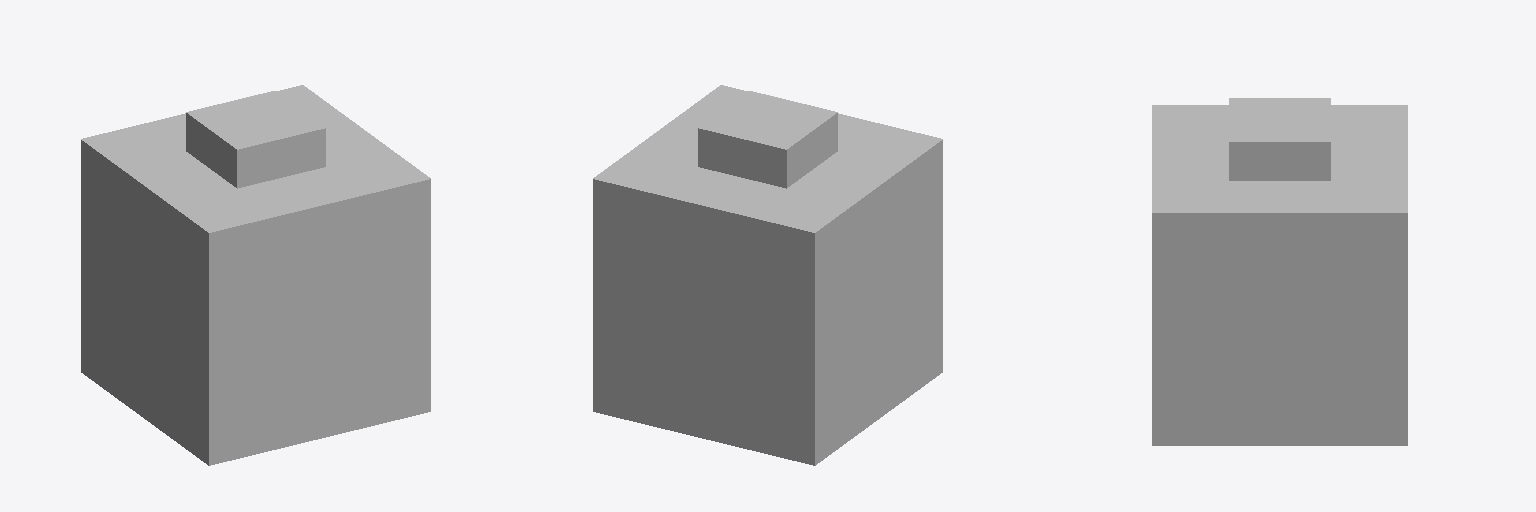
Rendered from Switch_Off.obj.
3 views of the same model, side by side, from view 1: azimuth 30°, elevation 25°; view 2: azimuth 150°, elevation 25°; view 3: azimuth 270°, elevation 25° (orthographic).
Parts seen in each view (by area): view 1: 立方体; view 2: 立方体; view 3: 立方体.
Boxes of the visible parts, <box> form: 立方体: <box>81,85,430,465</box>; 立方体: <box>593,85,942,465</box>; 立方体: <box>1152,98,1407,445</box>.
Size of the model in its own units: 6 by 7 by 6.